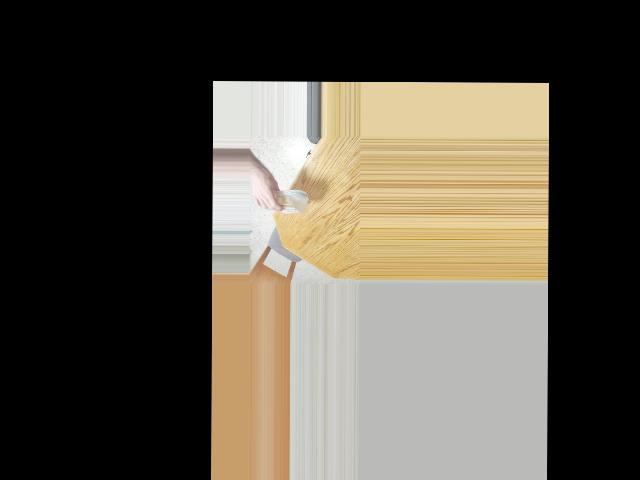cheese: (260, 181, 305, 220)
